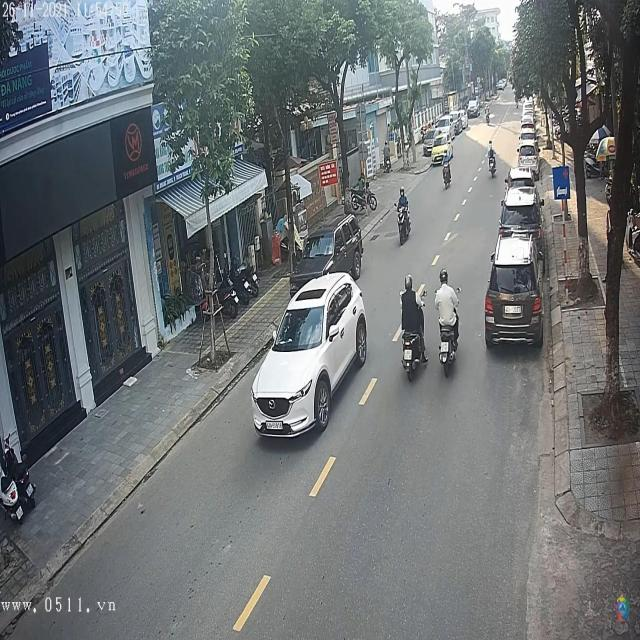car: (250, 274, 370, 440), (485, 238, 543, 347), (293, 210, 364, 291), (499, 188, 544, 239), (502, 177, 537, 216), (517, 146, 537, 168), (468, 99, 480, 117)
motorcycle: (399, 319, 430, 380), (437, 320, 459, 366), (396, 206, 412, 248), (488, 149, 498, 178), (442, 163, 450, 190)
